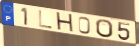0: (78, 17, 92, 35)
1: (21, 7, 29, 27)
5: (117, 22, 132, 41)
H: (55, 11, 75, 34)
L: (38, 10, 53, 30)
O: (95, 19, 115, 39)
